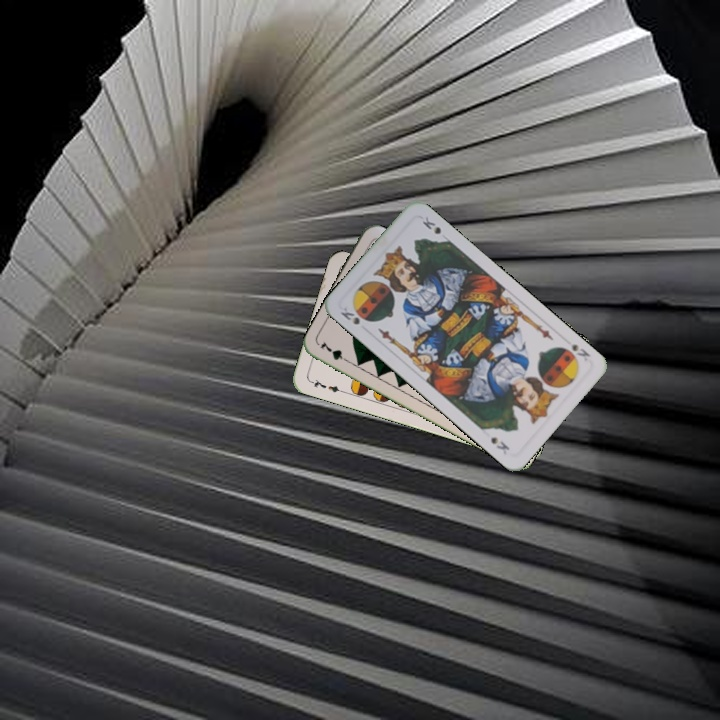E7: (306, 375, 346, 396)
G7: (316, 338, 353, 366)
SK: (336, 303, 363, 327), (567, 340, 593, 363)
